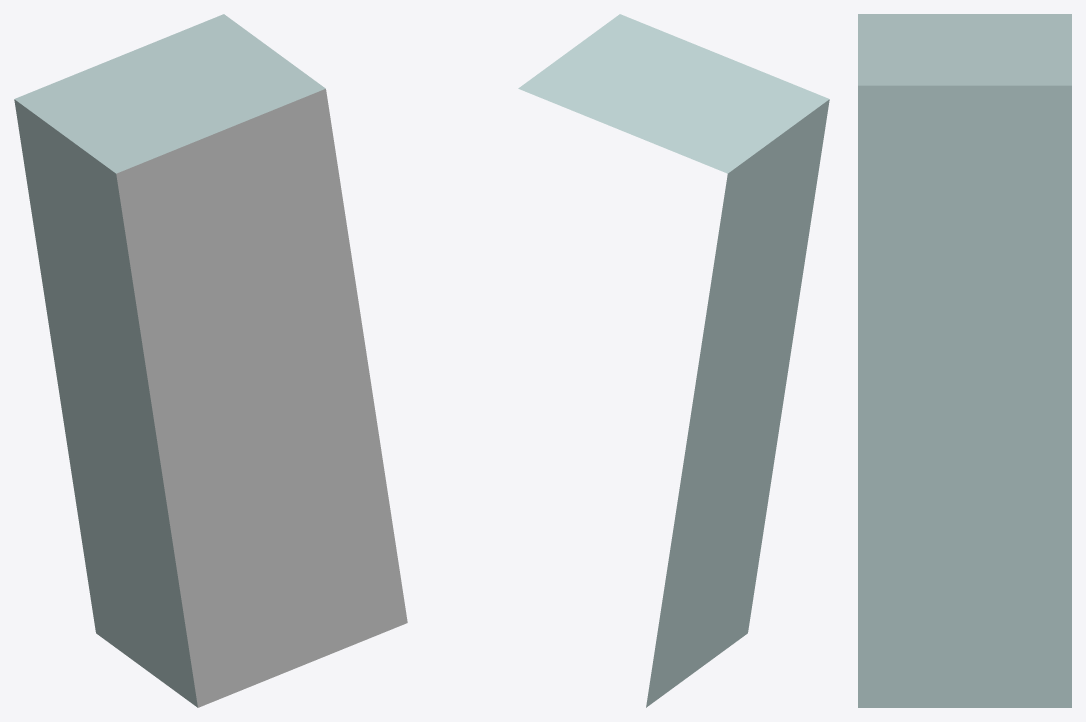
3 renders of one model, left to right at view 1: azimuth 30°, elevation 25°; view 2: azimuth 150°, elevation 25°; view 3: azimuth 270°, elevation 25°, orthographic. The views are drawn at different scales.
Parts seen in each view (by area): view 1: 0_2_2_0_2_2_1_2; view 2: 0_2_2_0_2_2_1_2; view 3: 0_2_2_0_2_2_1_2.
Part boxes in pixels (x1=…): 0_2_2_0_2_2_1_2: x1=14, y1=14, x2=407, y2=707; 0_2_2_0_2_2_1_2: x1=518, y1=14, x2=829, y2=707; 0_2_2_0_2_2_1_2: x1=858, y1=14, x2=1071, y2=707.
Size of the model in its own units: 4.95 by 9.54 by 3.
